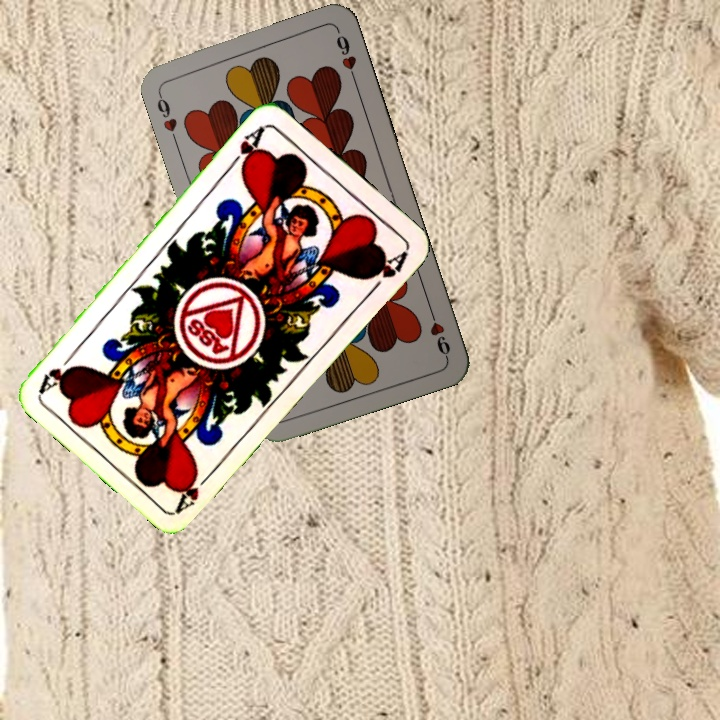H9: (424, 303, 453, 360), (153, 87, 180, 145)
HA: (225, 121, 268, 175), (172, 465, 218, 514)
